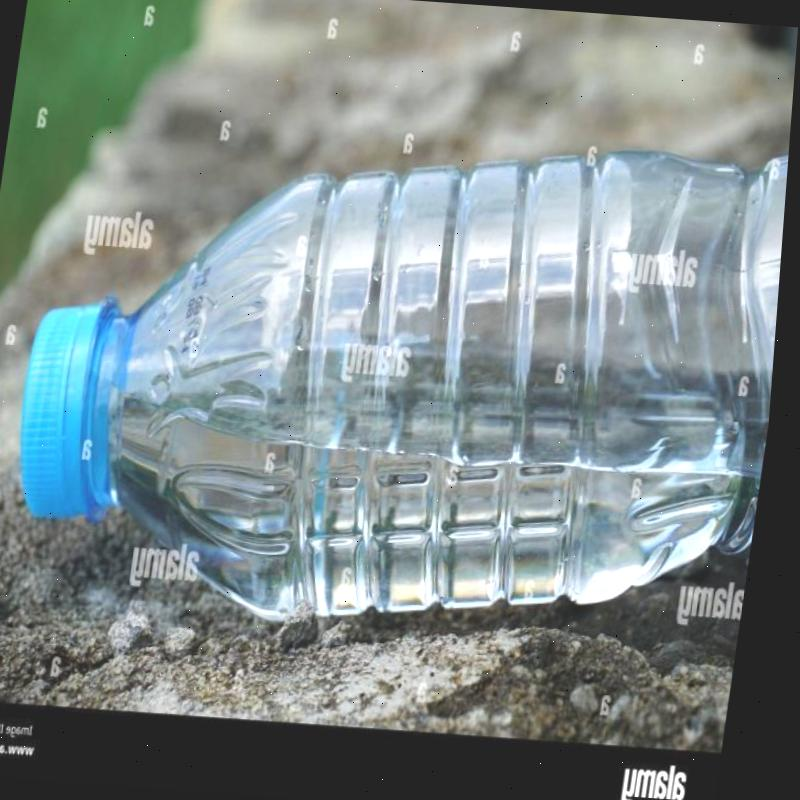botella: (0, 95, 794, 657)
